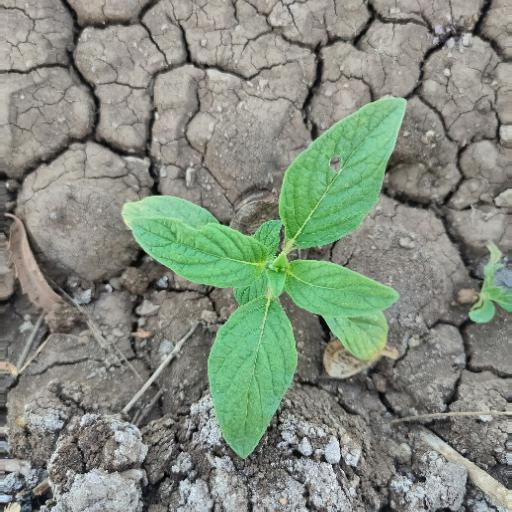crop: (124, 72, 409, 467)
